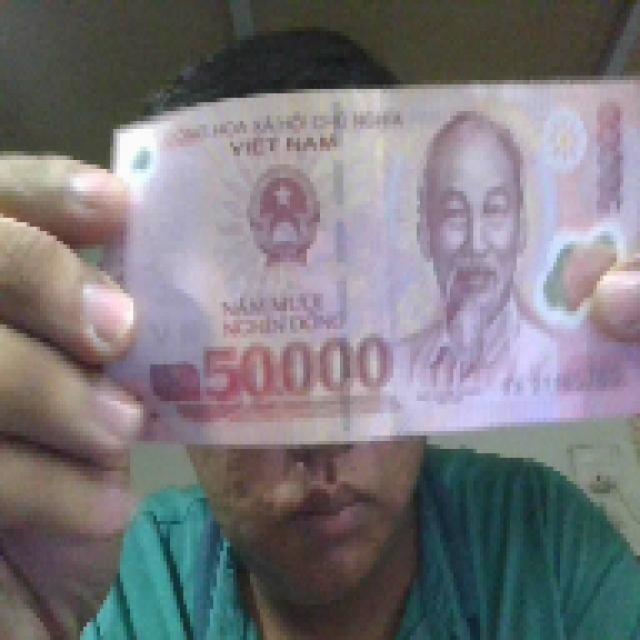50 000 VND: (100, 71, 637, 445)
